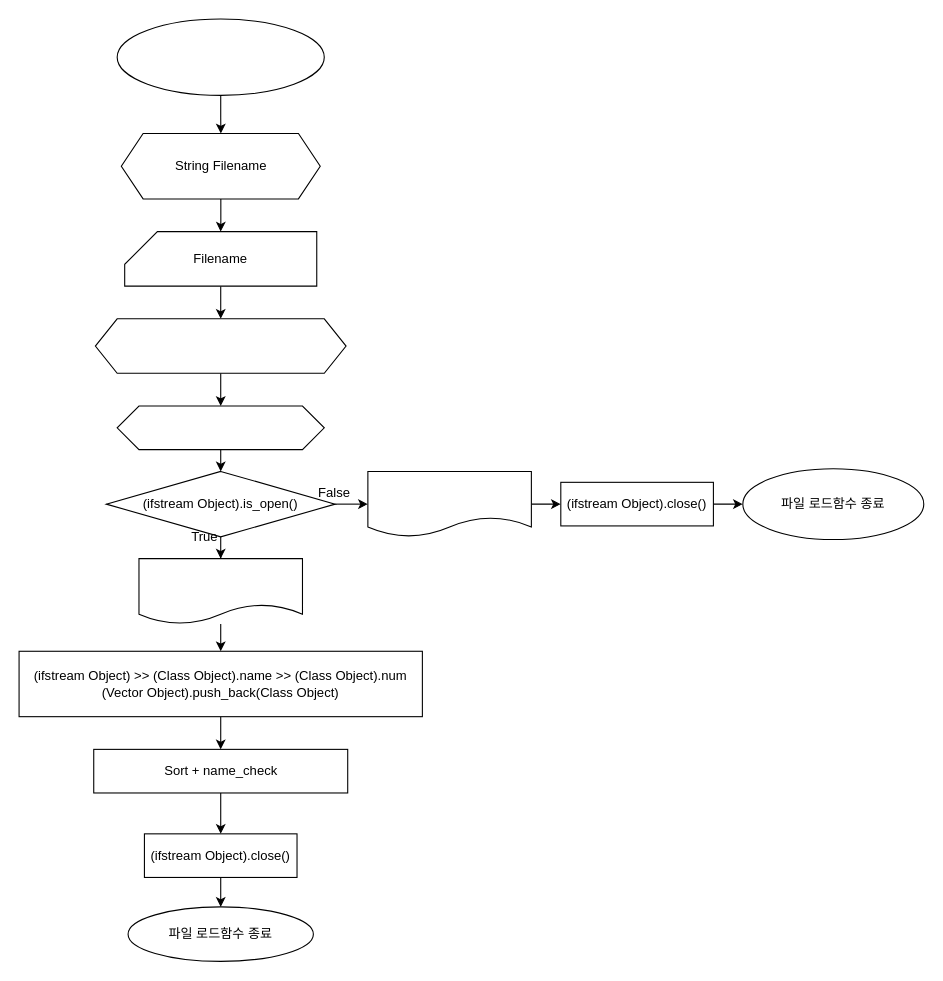
The diagram is 943 pixels wide and 981 high, and some of its shapes have lost their labels. Each missing label, with the centre of its shape:
(Class Object): point 220,427
(ifstream Object) ("Filename"): point 220,345
파일 로드함수 호출: point 220,56
파일을 열 수 없습니다.: point 449,503
파일을 열었습니다.: point 220,591
